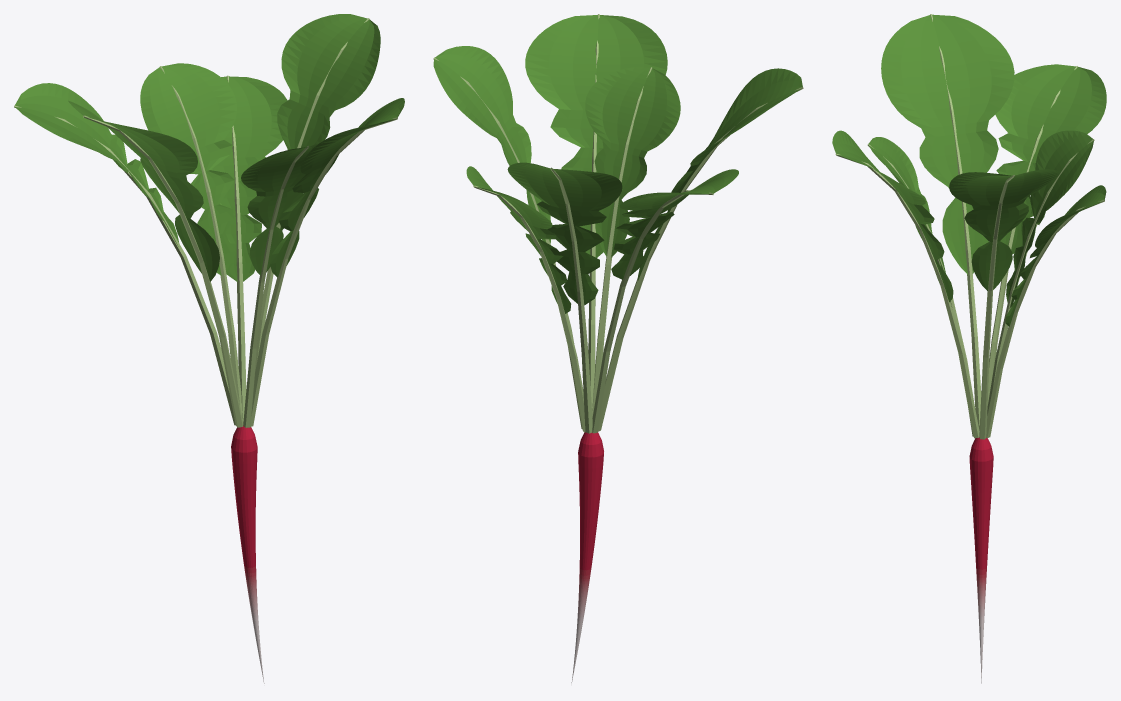
File: radish_harvest_v15.glb
The picture shows the model from 3 angles, left to right: view 1: azimuth 30°, elevation 25°; view 2: azimuth 150°, elevation 25°; view 3: azimuth 270°, elevation 25°; orthographic projection. The views are drawn at different scales.
Visible parts, largest first — view 1: plant; view 2: plant; view 3: plant.
Boxes of the visible parts, <box> form: plant: <box>14,14,404,683</box>; plant: <box>433,14,803,683</box>; plant: <box>832,14,1106,683</box>.
Bounding box in the file's own units: 0.3192 × 0.591 × 0.253.
1 material, 1 textured.
